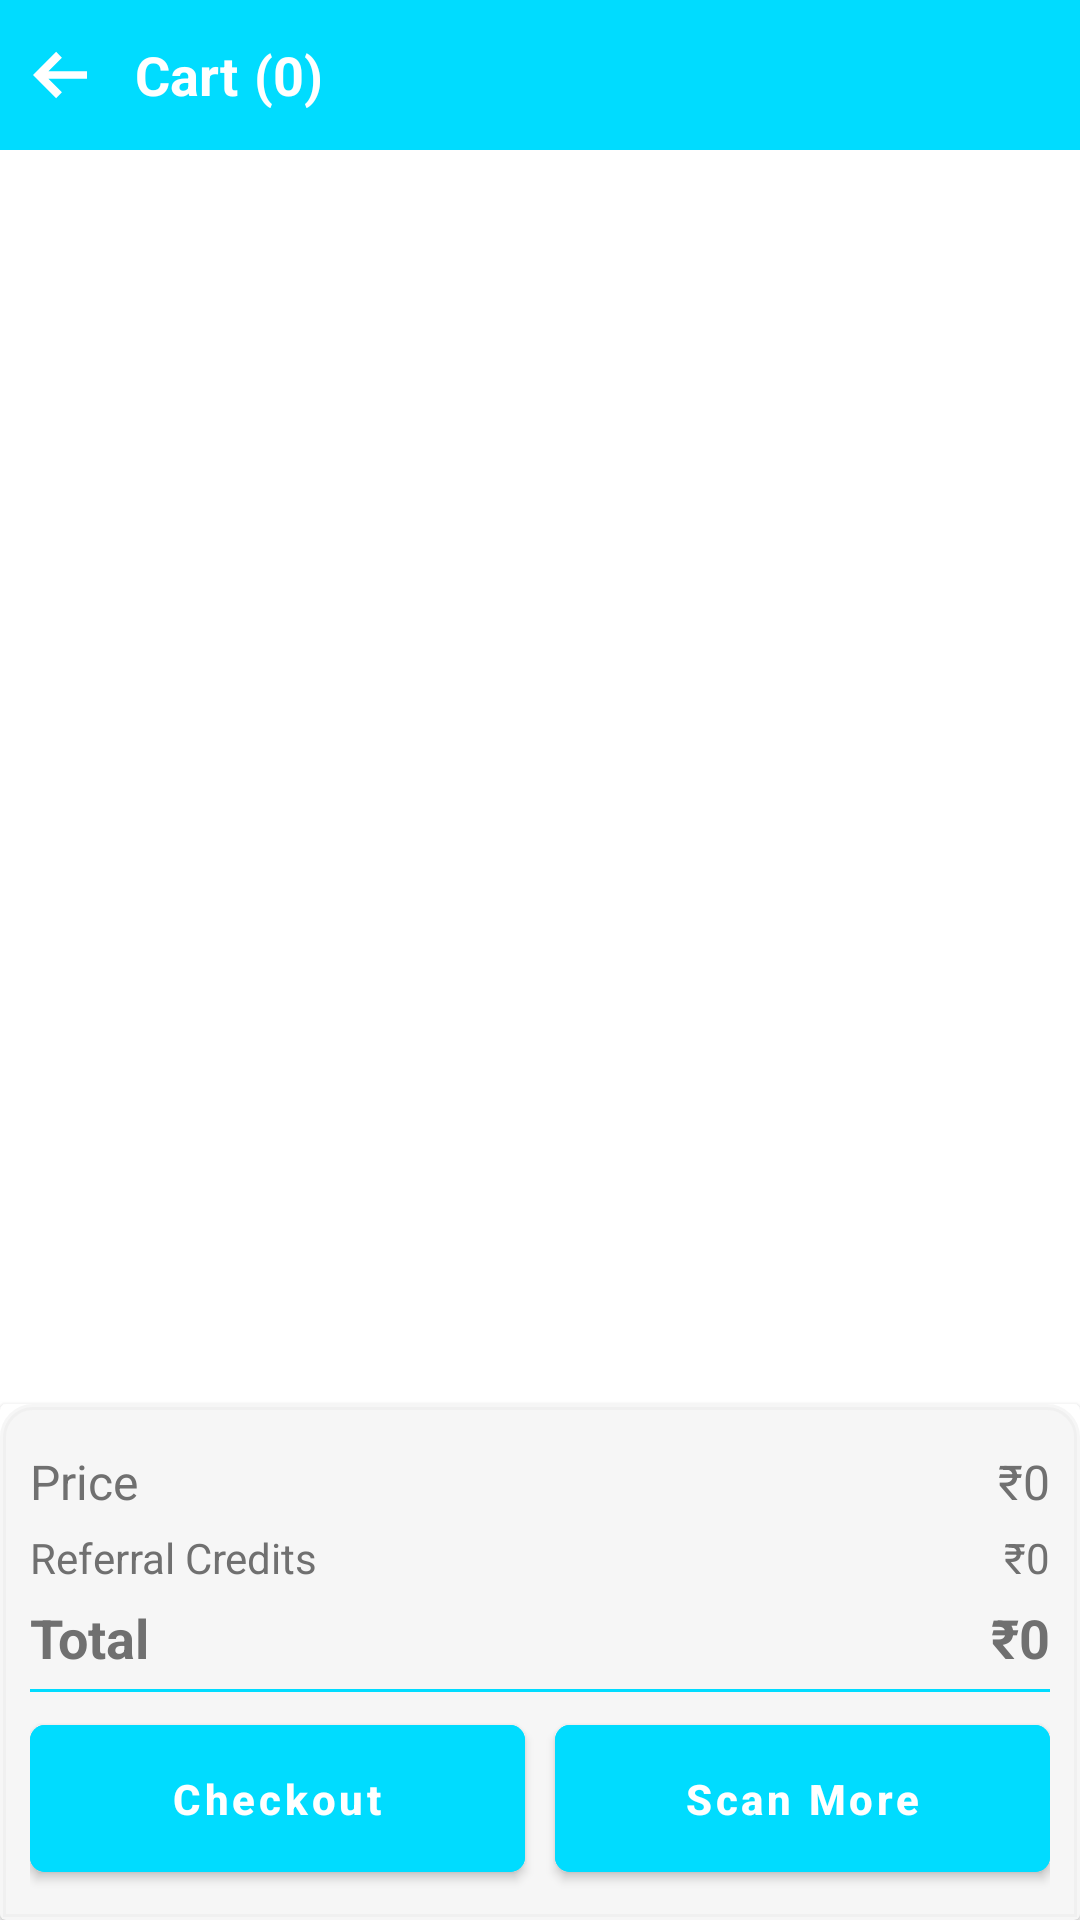

Icons on this 1080px×1920px Android screen, each with the point to tap as [x,y]:
left arrow: [60,75]
